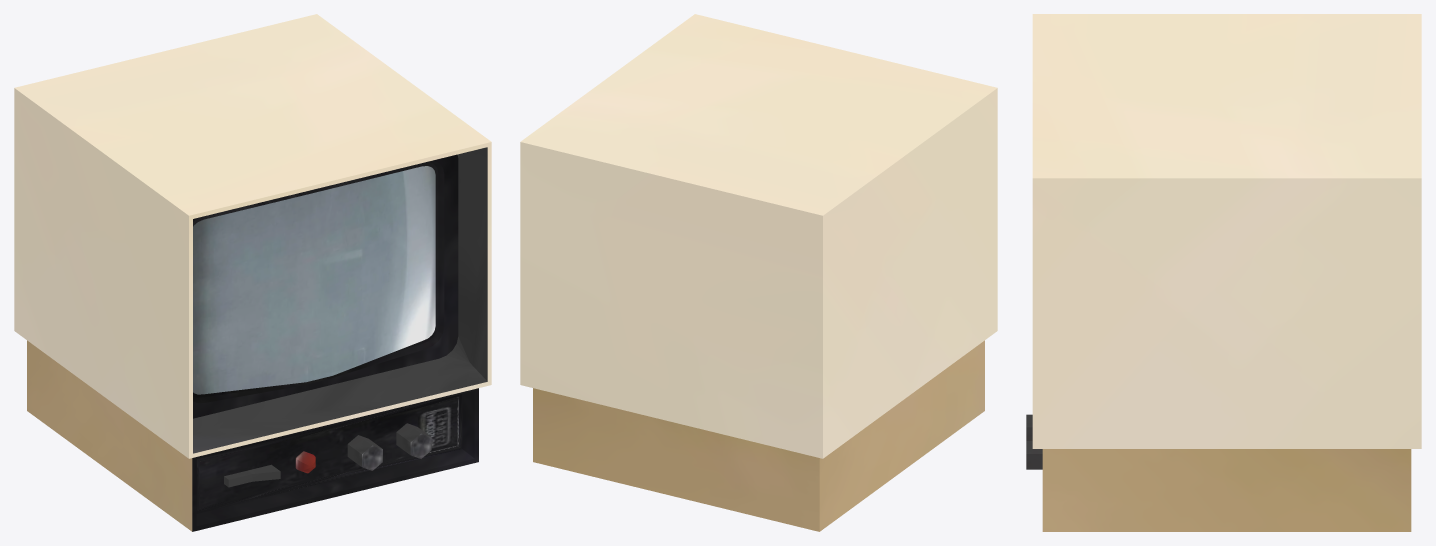
The model's file is monitorSmall.glb.
3 renders of one model, left to right at view 1: azimuth 30°, elevation 25°; view 2: azimuth 150°, elevation 25°; view 3: azimuth 270°, elevation 25°, orthographic. The views are drawn at different scales.
Visible parts, largest first — view 1: ComputerSmall; view 2: ComputerSmall; view 3: ComputerSmall.
Part boxes in pixels (bbox=[...]): ComputerSmall: bbox=[14, 14, 491, 531]; ComputerSmall: bbox=[520, 14, 997, 531]; ComputerSmall: bbox=[1026, 14, 1421, 531].
Size of the model in its own units: 1.67 by 1.69 by 1.69.
1 material, 1 textured.
